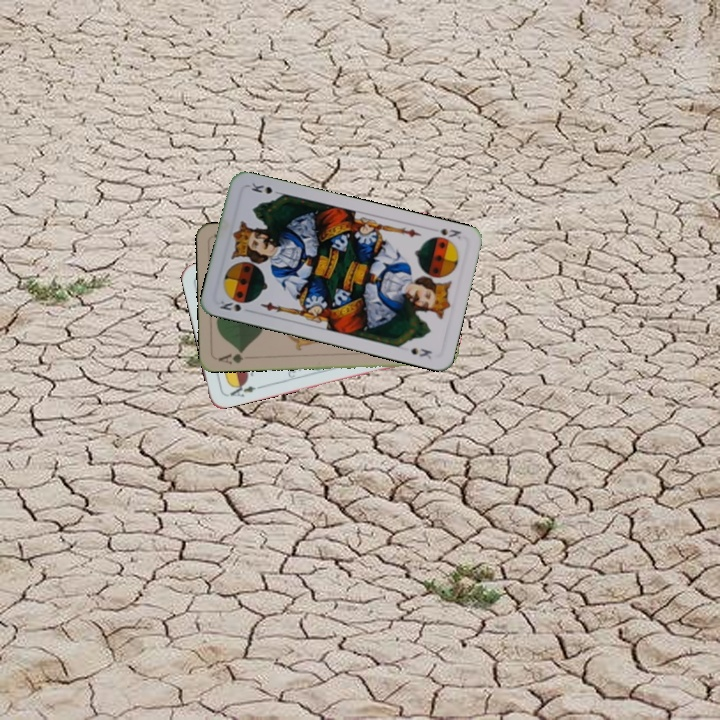EA: (223, 378, 263, 400)
GA: (214, 347, 254, 367)
SK: (215, 296, 244, 314), (436, 224, 464, 242)
